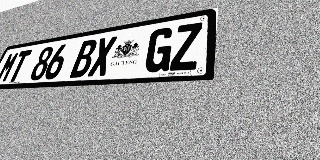6: (42, 43, 71, 80)
8: (28, 46, 56, 81)
B: (69, 39, 99, 78)
G: (143, 26, 175, 73)
M: (0, 51, 20, 83)
T: (6, 49, 32, 82)
X: (87, 36, 117, 77)
Z: (169, 22, 202, 71)
